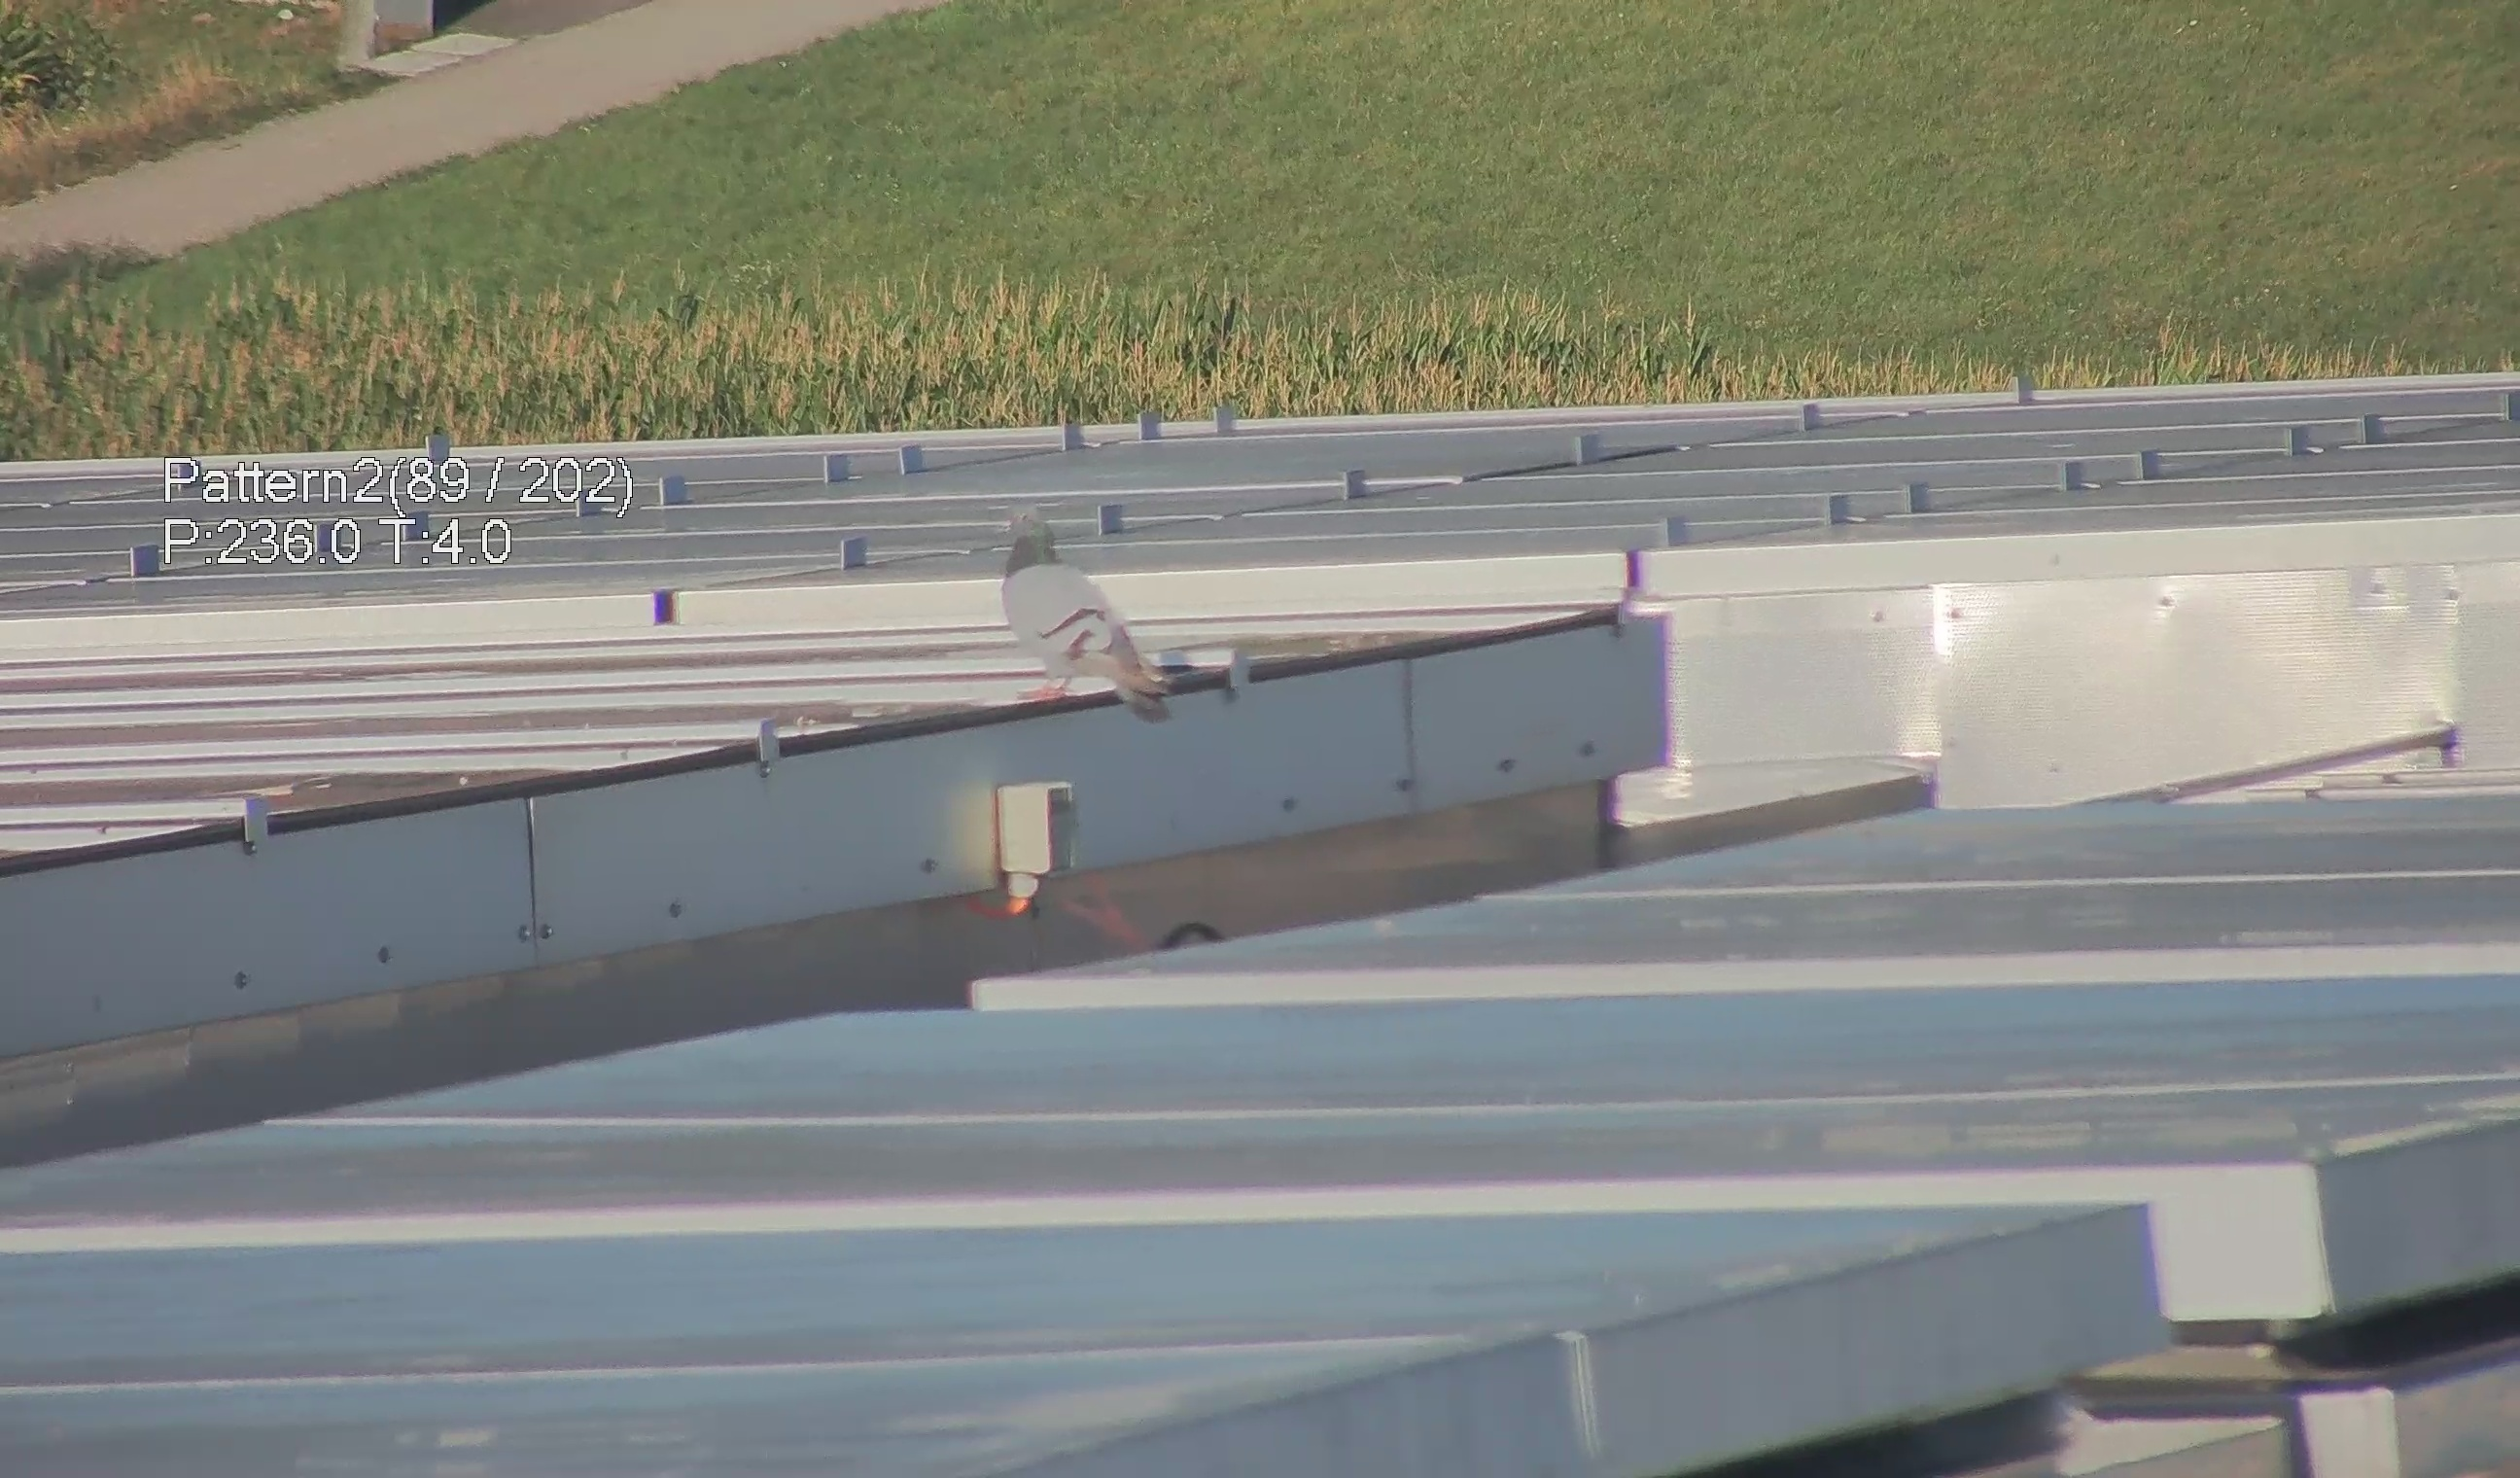Pigeon: (974, 510, 1180, 734)
